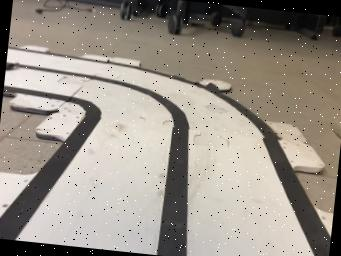street: (0, 45, 330, 256), (0, 45, 330, 256), (0, 45, 330, 256), (0, 45, 330, 256), (0, 45, 330, 256)
